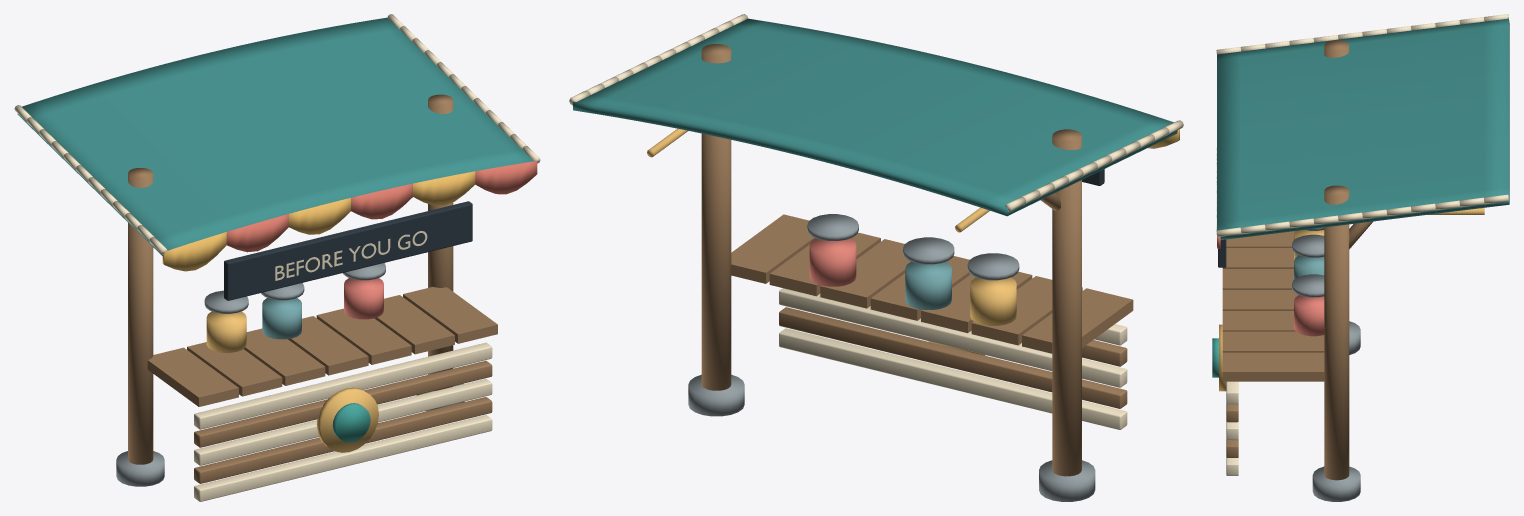
The model's file is AH03_CampShop.fbx.
3 views of the same model, side by side, from view 1: azimuth 30°, elevation 25°; view 2: azimuth 150°, elevation 25°; view 3: azimuth 270°, elevation 25° (orthographic). The views are drawn at different scales.
Visible parts, largest first — view 1: AH03_CampShop_AH03_CanvasMint, AH03_CampShop_AH03_Wood, AH03_CampShop_AH03_Cream, AH03_CampShop_AH03_Dark, AH03_CampShop_AH03_CanvasGold, AH03_CampShop_AH03_CanvasRose, AH03_CampShop_AH03_Gold, AH03_CampShop_AH03_Metal, AH03_CampShop_AH03_CanvasCream, AH03_CampShop_AH03_Rose, AH03_CampShop_AH03_Glass, AH03_CampShop_AH03_Mint; view 2: AH03_CampShop_AH03_CanvasMint, AH03_CampShop_AH03_Wood, AH03_CampShop_AH03_Cream, AH03_CampShop_AH03_Metal, AH03_CampShop_AH03_CanvasCream, AH03_CampShop_AH03_Gold, AH03_CampShop_AH03_Rose, AH03_CampShop_AH03_Glass; view 3: AH03_CampShop_AH03_CanvasMint, AH03_CampShop_AH03_Wood, AH03_CampShop_AH03_CanvasCream, AH03_CampShop_AH03_Metal, AH03_CampShop_AH03_Rose, AH03_CampShop_AH03_Cream, AH03_CampShop_AH03_Gold, AH03_CampShop_AH03_Glass.
Part boxes in pixels (bbox=[...]): AH03_CampShop_AH03_CanvasMint: bbox=[17, 17, 533, 255]; AH03_CampShop_AH03_Wood: bbox=[128, 94, 497, 483]; AH03_CampShop_AH03_Cream: bbox=[194, 231, 492, 501]; AH03_CampShop_AH03_Dark: bbox=[224, 201, 472, 300]; AH03_CampShop_AH03_CanvasGold: bbox=[162, 171, 475, 271]; AH03_CampShop_AH03_CanvasRose: bbox=[226, 161, 537, 252]; AH03_CampShop_AH03_Gold: bbox=[206, 311, 378, 452]; AH03_CampShop_AH03_Metal: bbox=[116, 263, 464, 486]; AH03_CampShop_AH03_CanvasCream: bbox=[14, 14, 540, 254]; AH03_CampShop_AH03_Rose: bbox=[344, 278, 383, 319]; AH03_CampShop_AH03_Glass: bbox=[262, 298, 301, 339]; AH03_CampShop_AH03_Mint: bbox=[332, 403, 370, 442]; AH03_CampShop_AH03_CanvasMint: bbox=[573, 18, 1177, 216]; AH03_CampShop_AH03_Wood: bbox=[701, 44, 1133, 476]; AH03_CampShop_AH03_Cream: bbox=[779, 288, 1127, 429]; AH03_CampShop_AH03_Metal: bbox=[688, 214, 1095, 501]; AH03_CampShop_AH03_CanvasCream: bbox=[569, 14, 1183, 211]; AH03_CampShop_AH03_Gold: bbox=[647, 128, 1016, 355]; AH03_CampShop_AH03_Rose: bbox=[809, 238, 856, 286]; AH03_CampShop_AH03_Glass: bbox=[905, 261, 951, 309]; AH03_CampShop_AH03_CanvasMint: bbox=[1217, 18, 1509, 239]; AH03_CampShop_AH03_Wood: bbox=[1222, 40, 1373, 480]; AH03_CampShop_AH03_CanvasCream: bbox=[1216, 14, 1508, 237]; AH03_CampShop_AH03_Metal: bbox=[1292, 227, 1360, 501]; AH03_CampShop_AH03_Rose: bbox=[1294, 295, 1324, 336]; AH03_CampShop_AH03_Cream: bbox=[1216, 148, 1238, 475]; AH03_CampShop_AH03_Gold: bbox=[1219, 208, 1484, 391]; AH03_CampShop_AH03_Glass: bbox=[1294, 255, 1324, 279].
Bounding box in the file's own units: 417 × 342 × 286.
